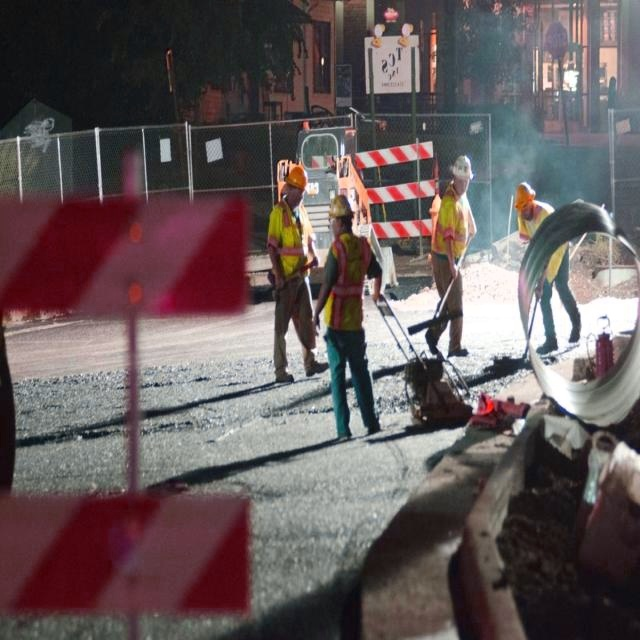Con_Casco: (450, 156, 473, 188)
Con_Chaleco: (323, 232, 369, 332), (268, 205, 309, 276), (432, 191, 471, 257)
